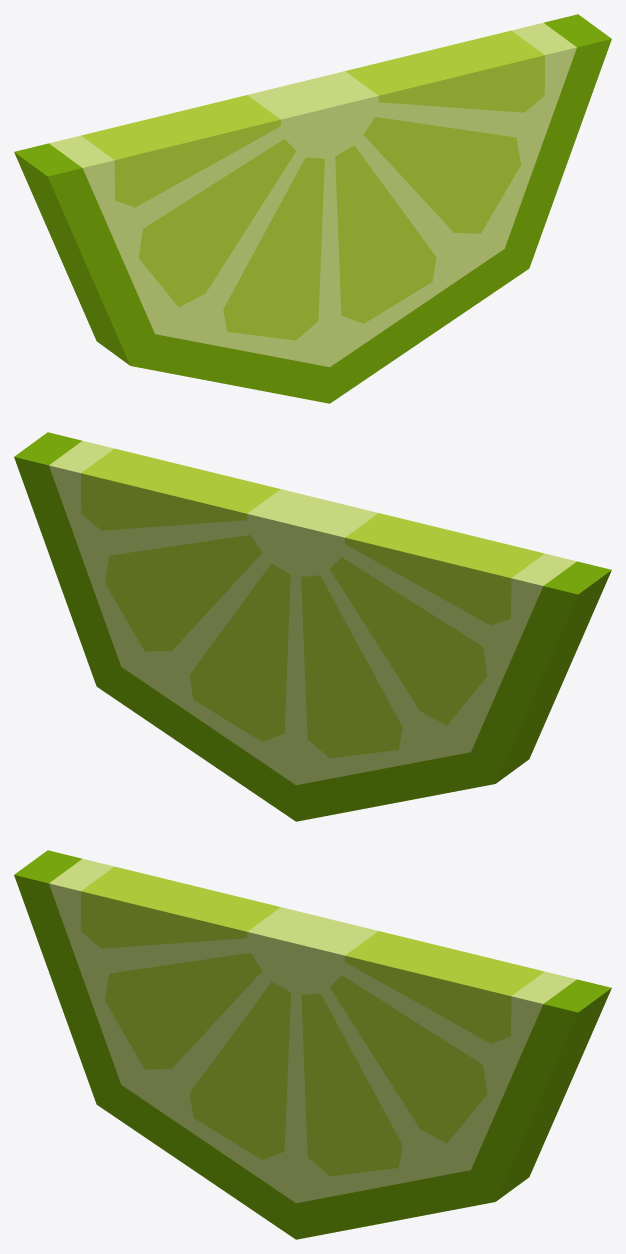
The model's file is Lime slice.obj.
3 views of the same model, one above another, from view 1: azimuth 30°, elevation 25°; view 2: azimuth 150°, elevation 25°; view 3: azimuth 330°, elevation 25° (orthographic).
Parts seen in each view (by area): view 1: Lime slice_0; view 2: Lime slice_0; view 3: Lime slice_0.
Part boxes in pixels (x1=…): Lime slice_0: x1=14, y1=14, x2=611, y2=403; Lime slice_0: x1=14, y1=432, x2=611, y2=821; Lime slice_0: x1=14, y1=850, x2=611, y2=1239.
Size of the model in its own units: 0.4275 by 0.2143 by 0.0443.
Materials: 1 (1 with a texture image).
